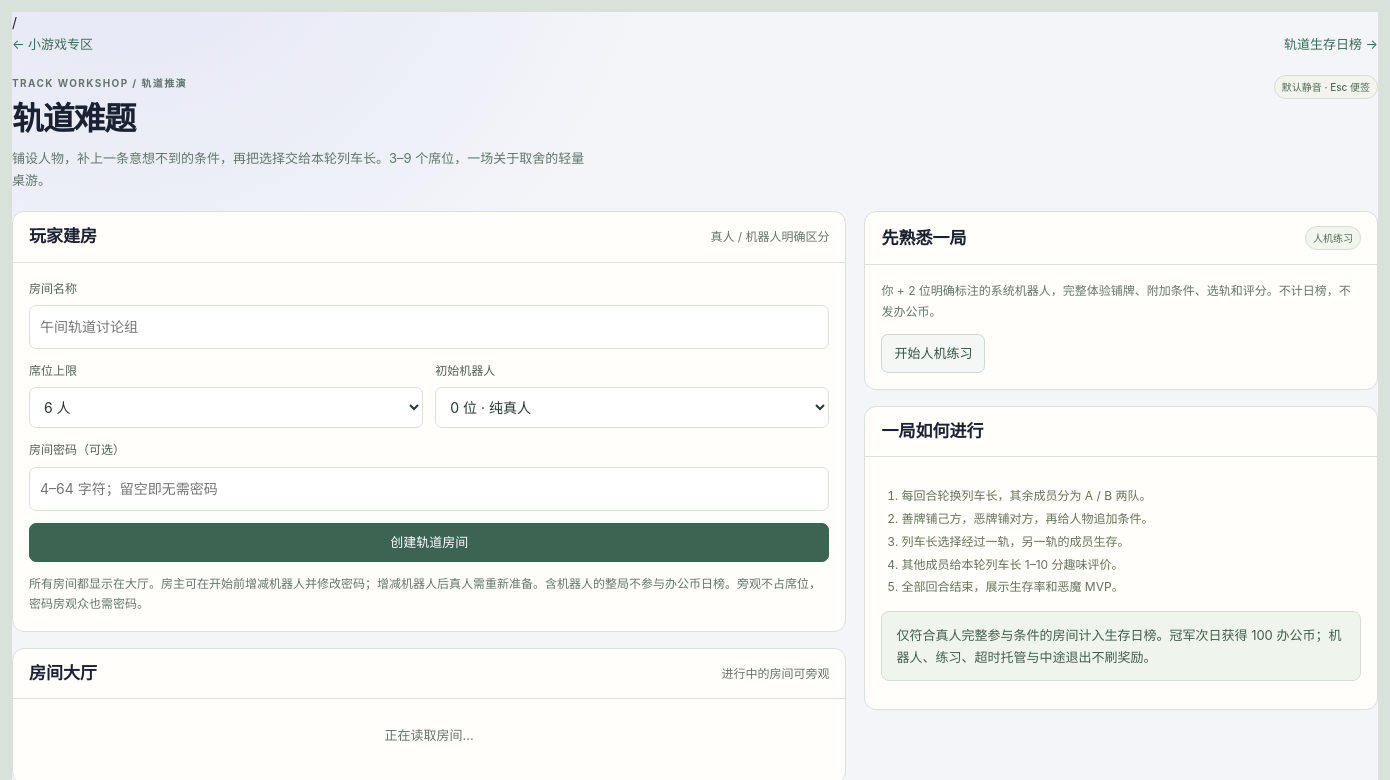
Test: rail workspace › creates explicit bot practice with a stable creation identity after a lost response
Click the button "开始人机练习". click: point(934, 354)
box: top-left (882, 334), bottom-right (986, 373)
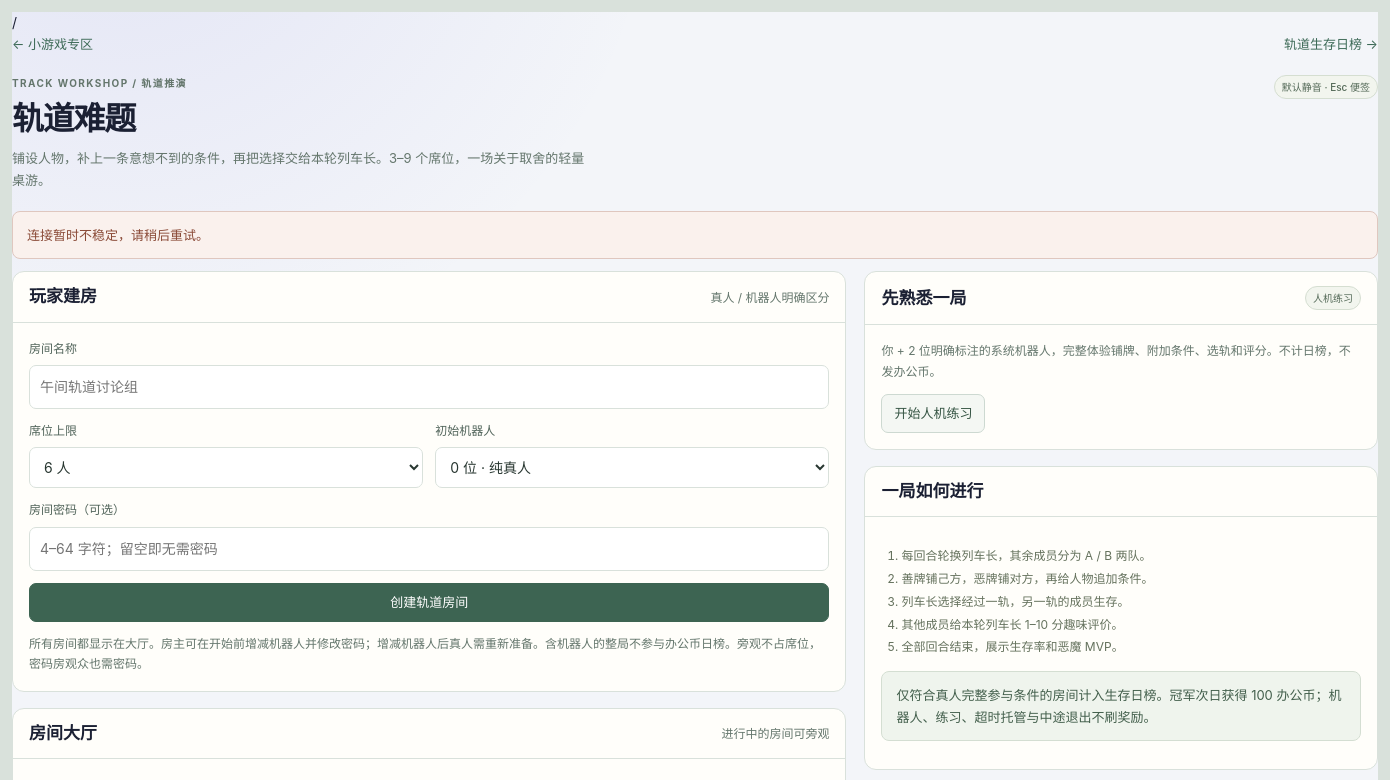
expect the message "连接暂时不稳定，请稍后重试。" is shown: met, box top-left (12, 211), bottom-right (1378, 260)
Click the button "开始人机练习". click: point(934, 414)
box: top-left (882, 394), bottom-right (986, 433)
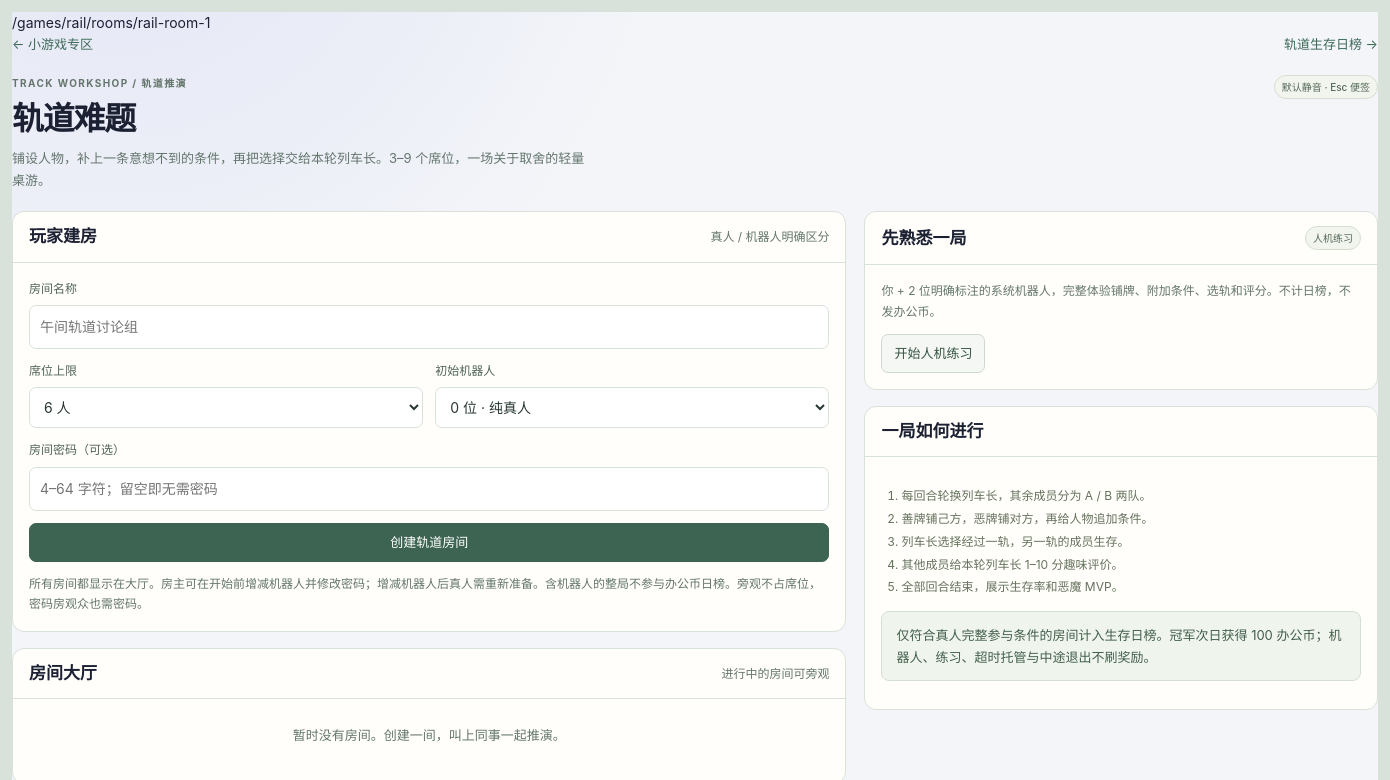
expect the text named "路径" reads "/games/rail/rooms/rail-room-1": met, box top-left (12, 14), bottom-right (210, 31)
